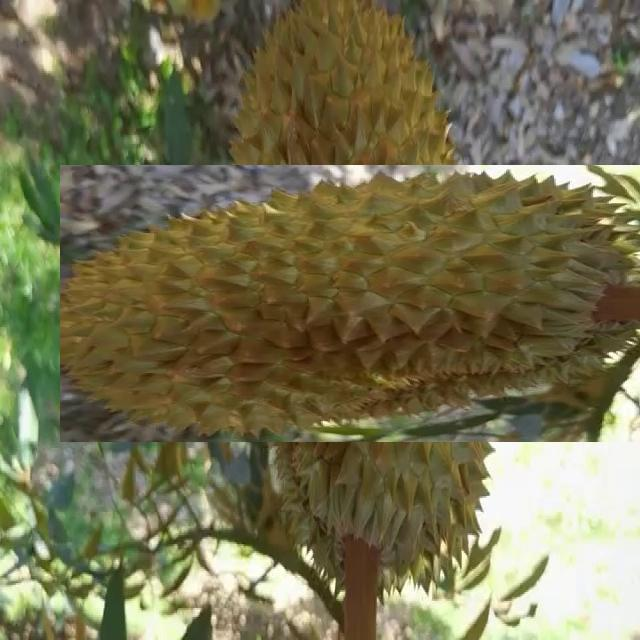durian: (142, 83, 582, 525)
